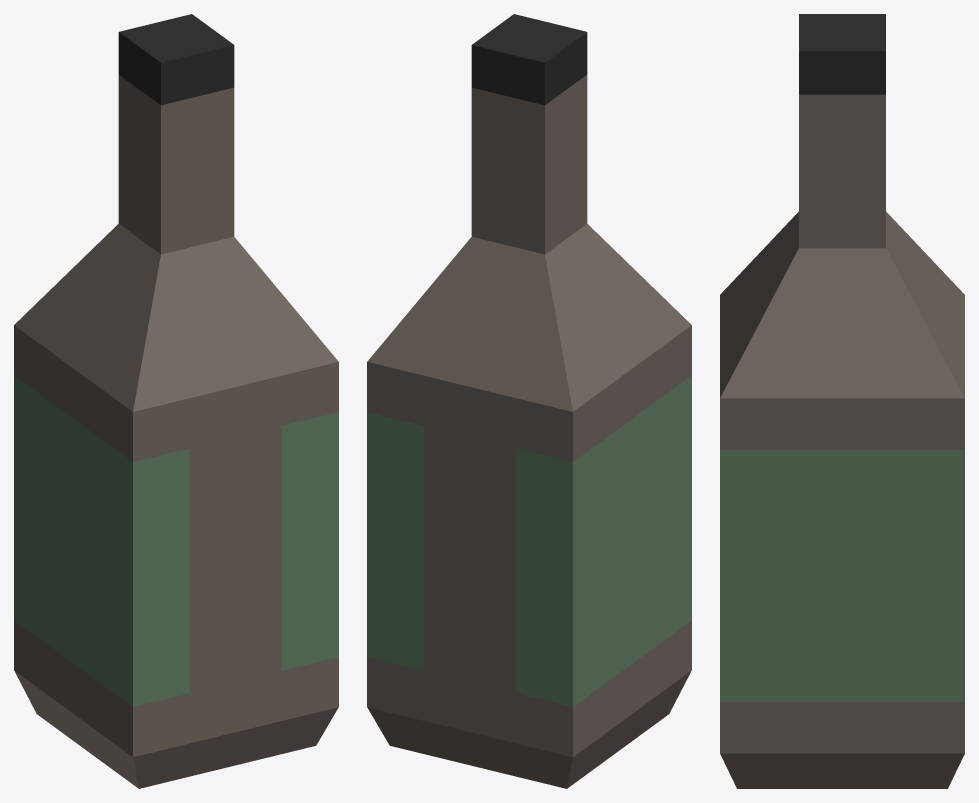
The model's file is Bottle_03.fbx.
The picture shows the model from 3 angles, left to right: view 1: azimuth 30°, elevation 25°; view 2: azimuth 150°, elevation 25°; view 3: azimuth 270°, elevation 25°; orthographic projection. The views are drawn at different scales.
Parts seen in each view (by area): view 1: Bottle_3; view 2: Bottle_3; view 3: Bottle_3.
Part boxes in pixels (left/top/right/bottom): Bottle_3: left=14, top=14, right=338, bottom=788; Bottle_3: left=367, top=14, right=691, bottom=788; Bottle_3: left=720, top=14, right=964, bottom=788.
Size of the model in its own units: 26.82 by 86.09 by 26.82.
